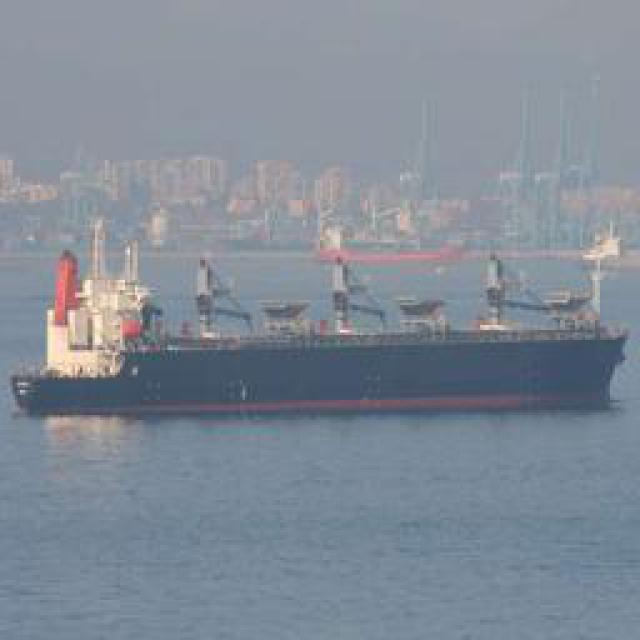Ship: (5, 235, 640, 423)
